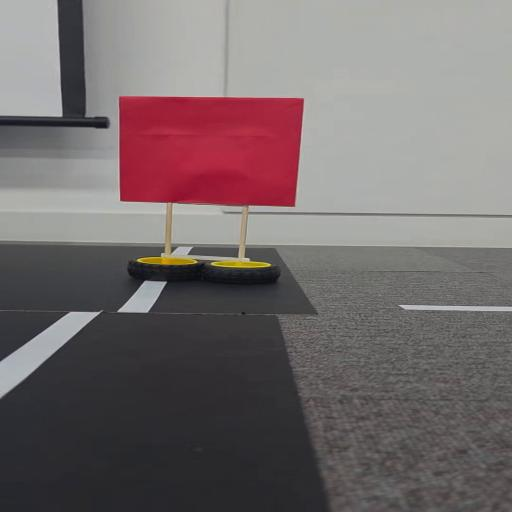Sign_A: (106, 92, 319, 283)
